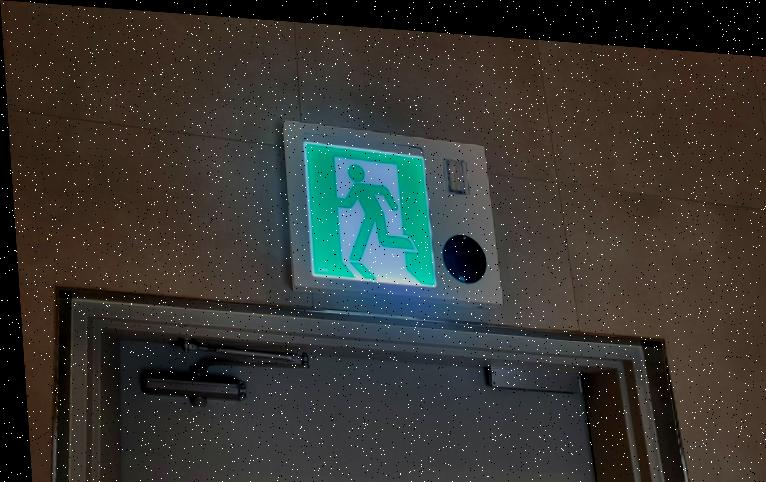emergency_exit: (282, 119, 503, 311)
